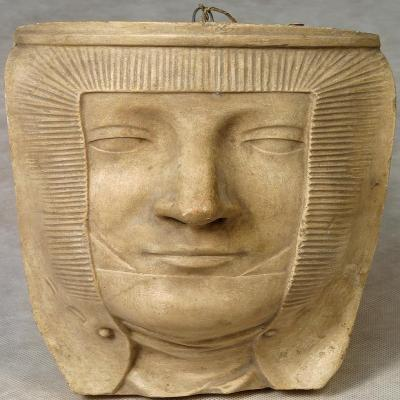sculpture: (5, 8, 396, 400)
